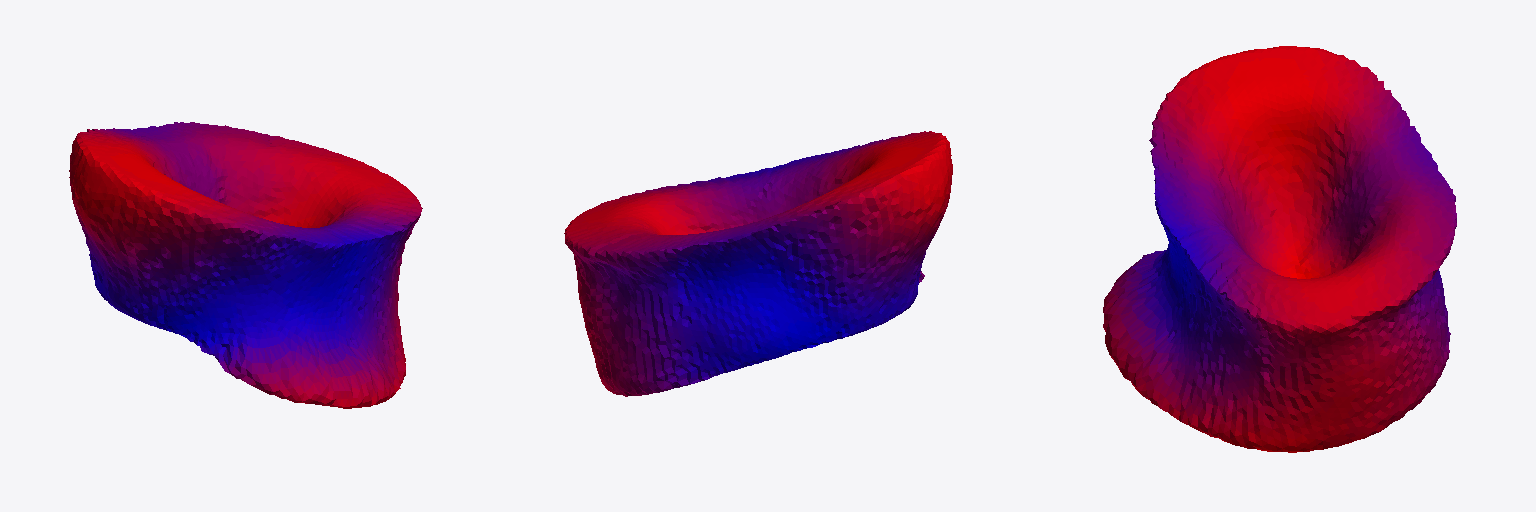
File: colored_model.obj
The picture shows the model from 3 angles: view 1: azimuth 30°, elevation 25°; view 2: azimuth 150°, elevation 25°; view 3: azimuth 270°, elevation 25°; orthographic projection.
Size of the model in its own units: 22.81 by 16.98 by 20.43.